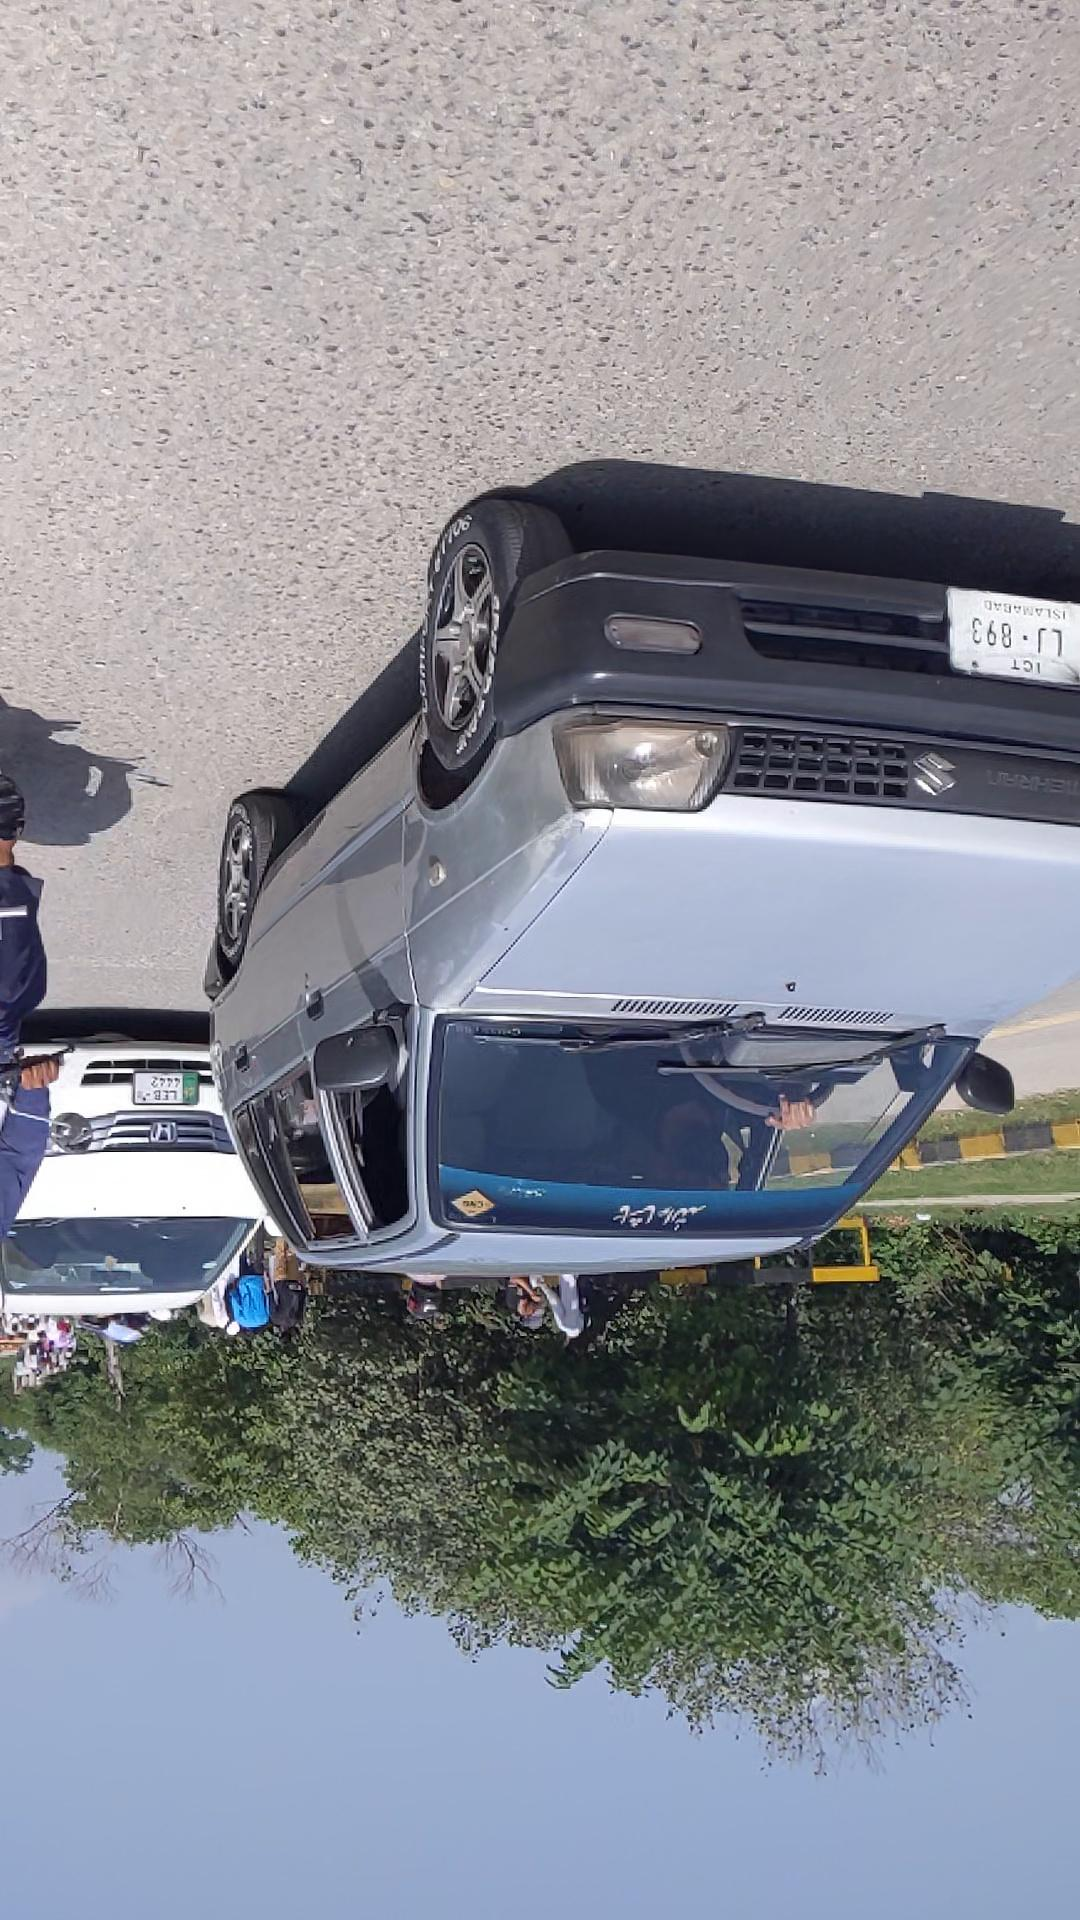windshield: (105, 684, 655, 895)
